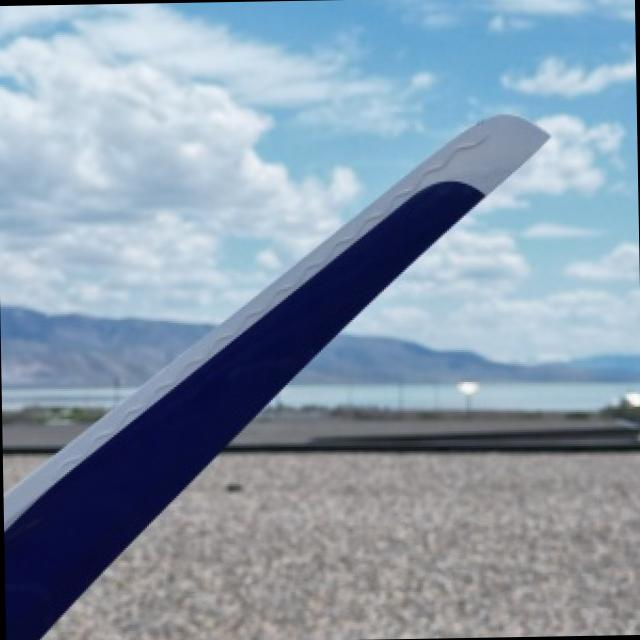healthy: (7, 112, 547, 640)
